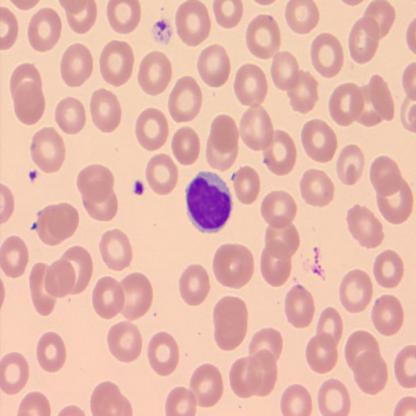Lymphocyte: (185, 168, 232, 236)
